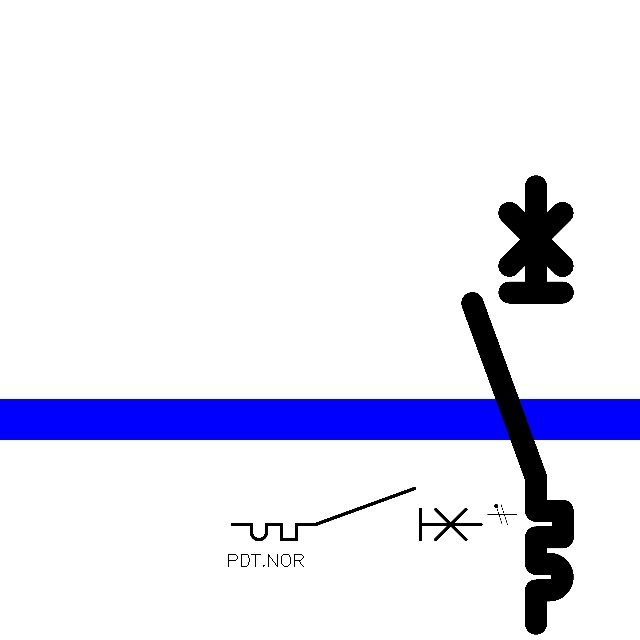interruptor_termomagnetico: (461, 175, 574, 635), (226, 482, 487, 546)
